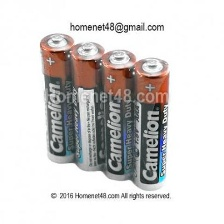battery: (130, 52, 172, 193), (67, 38, 110, 172), (38, 30, 79, 166), (97, 46, 137, 183)
